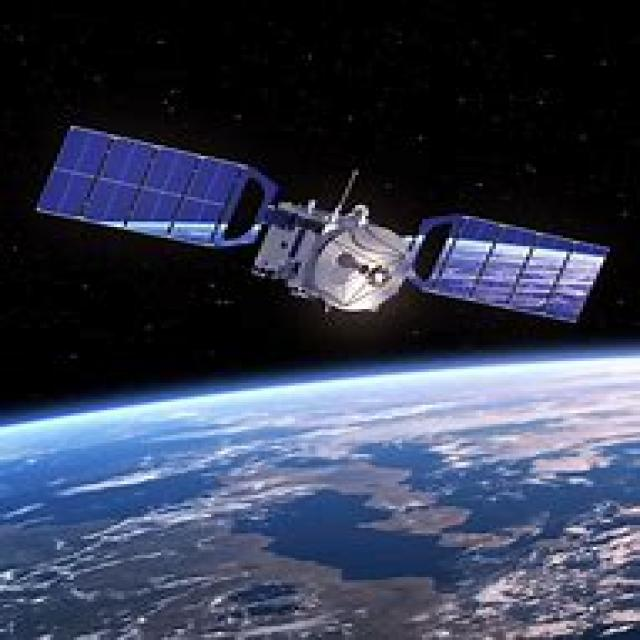medium_debris: (32, 122, 622, 336)
